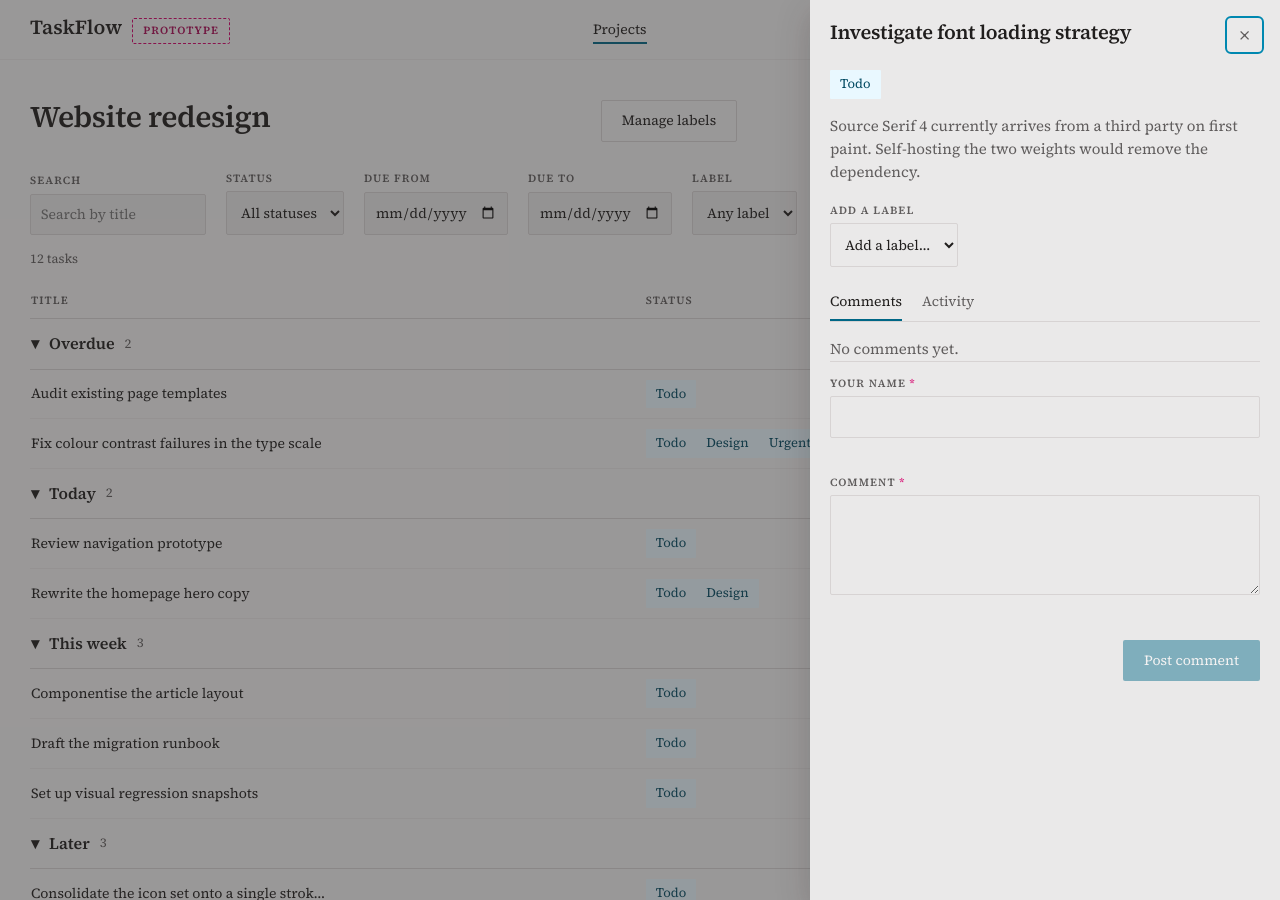
Test case: TaskDrawer › shows "No comments yet" and "No activity recorded" for a task with neither
Expected: the dialog is shown, [810, 0, 1279, 899]
Expected: the text "No comments yet." is shown, [830, 338, 959, 360]
Click the tab "Activity". click: (948, 302)
box: [922, 282, 974, 322]
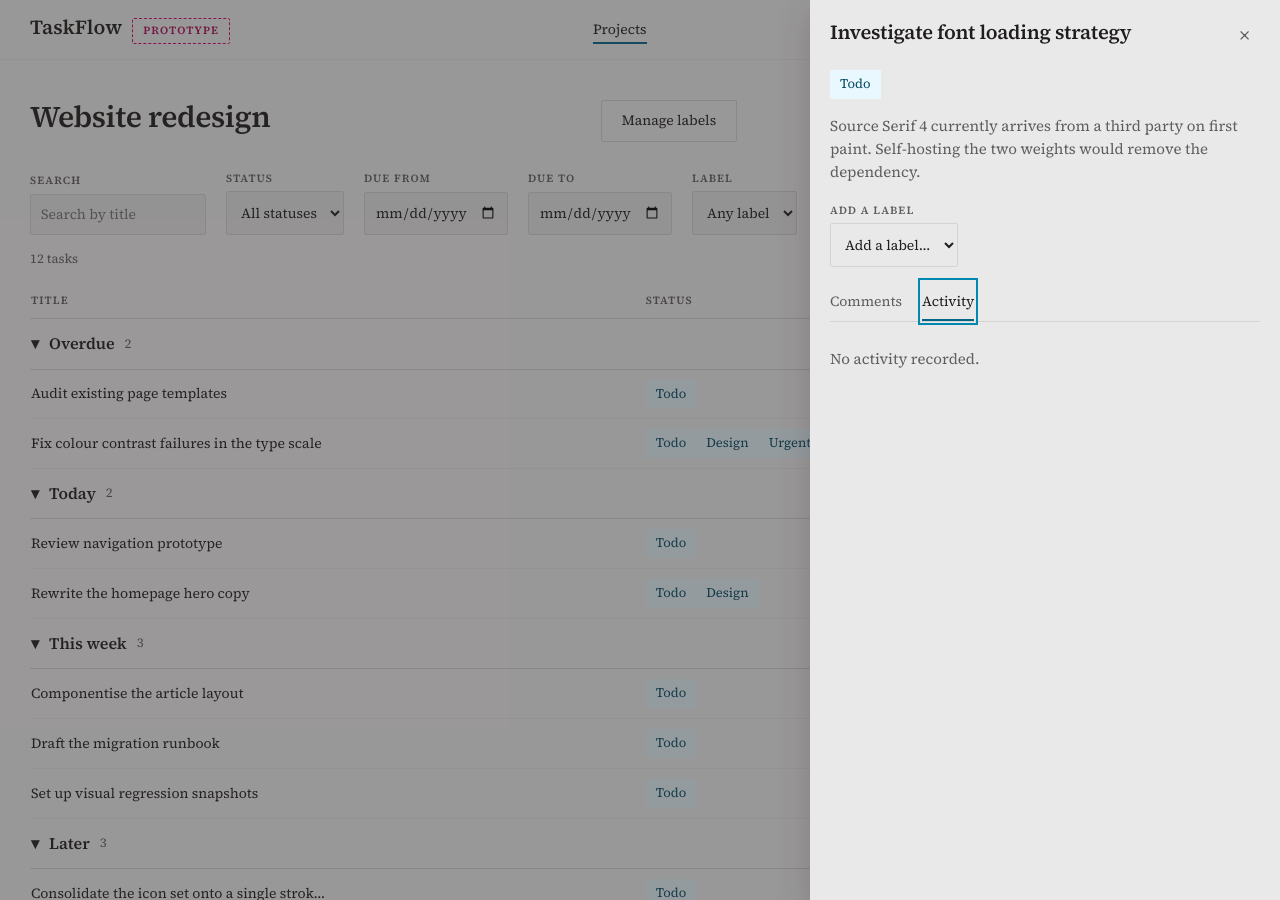
Expected: the text "No activity recorded." is shown, [830, 348, 980, 370]
